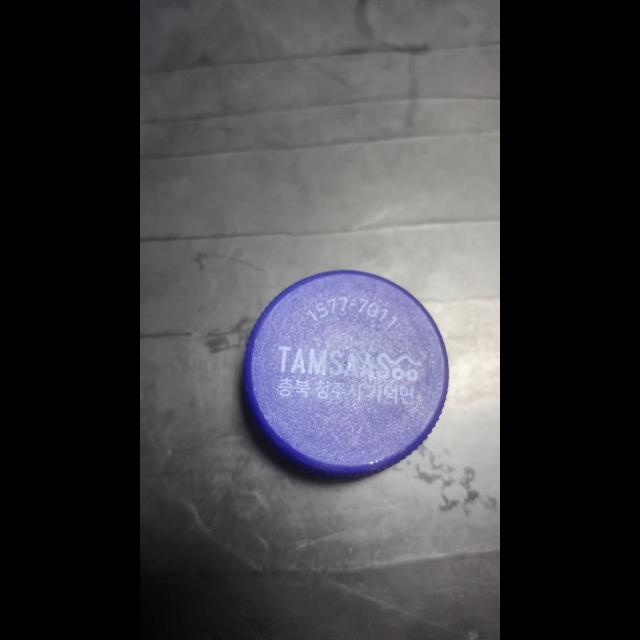plastic_bottle_cap: (242, 264, 452, 488)
